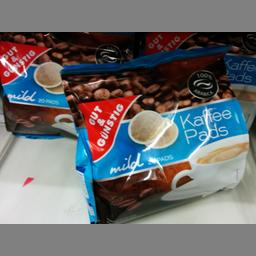coffee: (58, 42, 252, 222)
